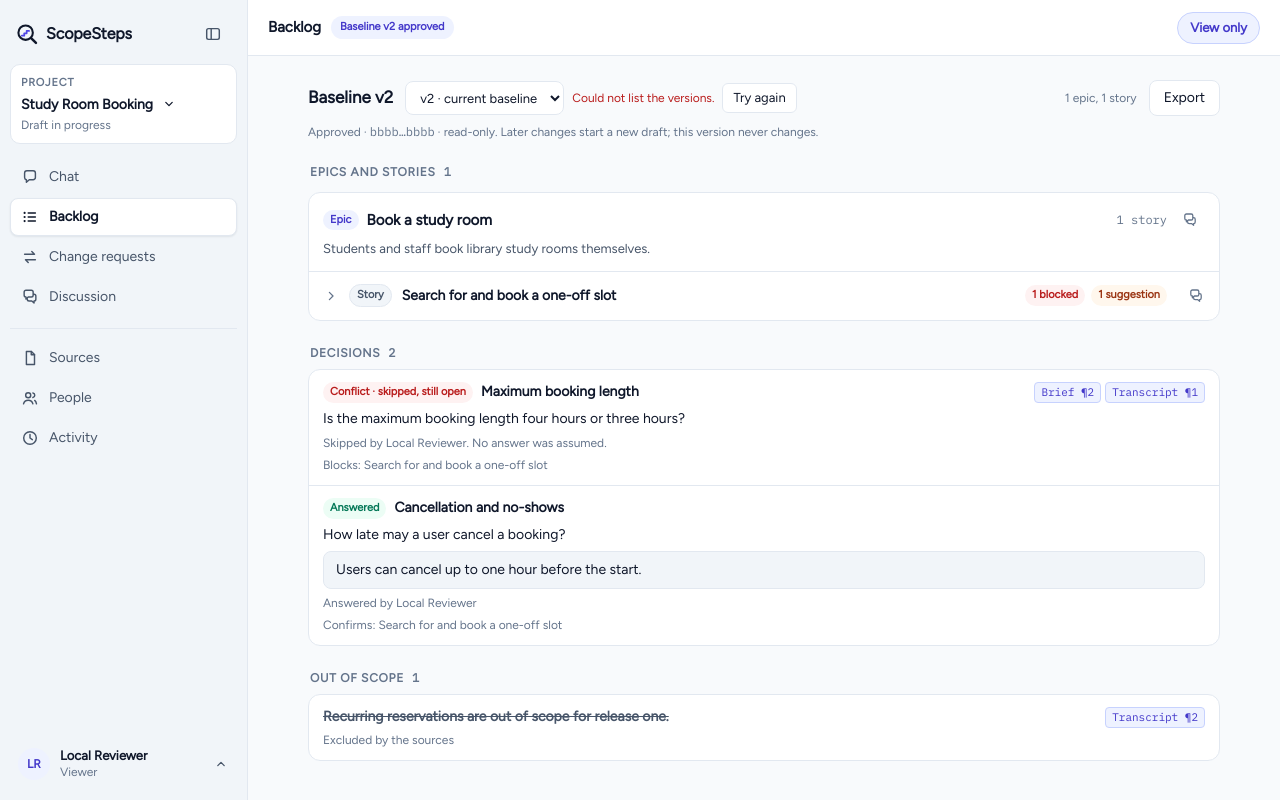
it: Backlog version history › keeps the version in view when the history cannot be read, and retries on request
Expected: the message reads "Could not list the versions.", top-left (572, 91), bottom-right (714, 105)
Click the button "Try again" at (760, 98), box top-left (722, 83), bottom-right (797, 113)
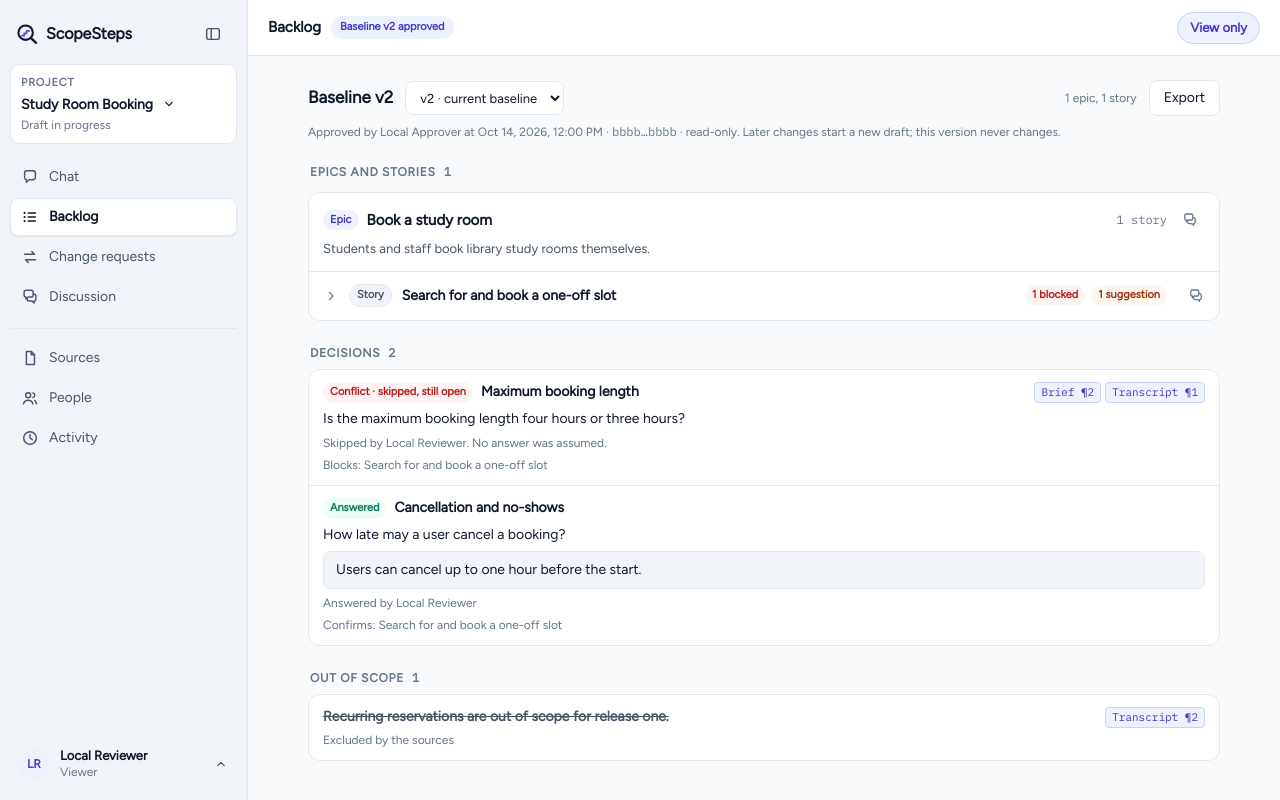
Result: the message "Could not list the versions." is gone
